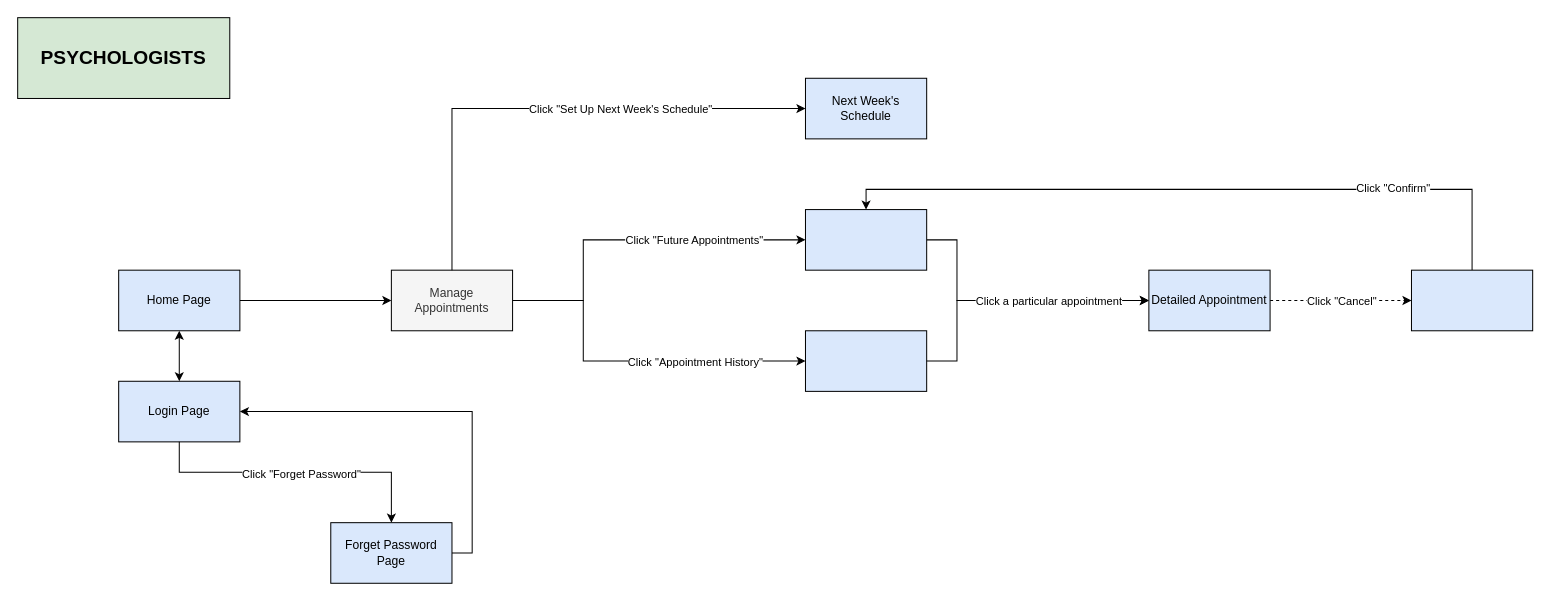
Some shapes in this 1550 by 601 pixel diagram are drawn without their labels. Here are the shapes that lost their labels. From the top down, the box of each, then its label:
(804, 209, 927, 270): Future Appointments
(1410, 269, 1533, 331): Reason for Cancellation Form/Popup + Send Email
(804, 330, 927, 391): Appointment History
